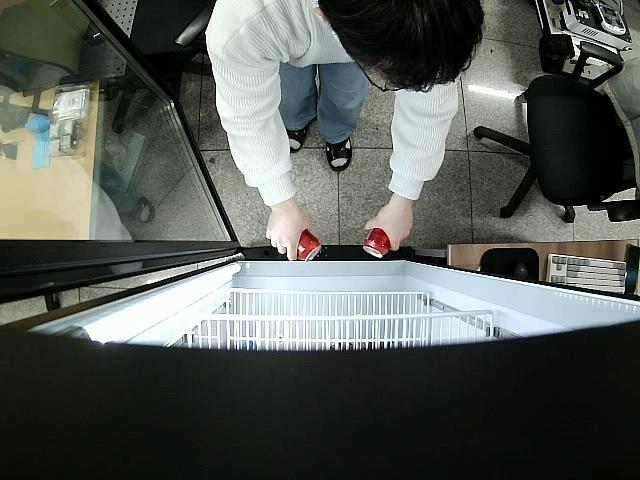11_cocaColaZero: (360, 230, 391, 261), (296, 226, 322, 262)
